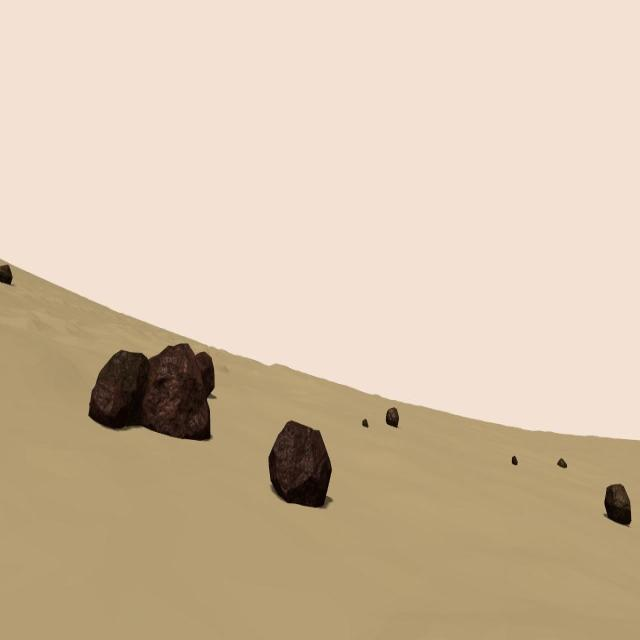rock: (127, 342, 211, 442), (268, 419, 332, 508), (90, 348, 149, 429), (604, 482, 632, 527), (194, 350, 215, 398), (0, 262, 13, 284), (386, 406, 399, 428), (557, 457, 566, 469), (362, 417, 368, 428), (512, 454, 517, 466)
